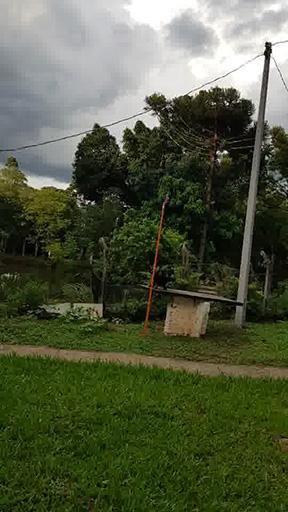Vara_Manobra: (142, 204, 165, 336)
